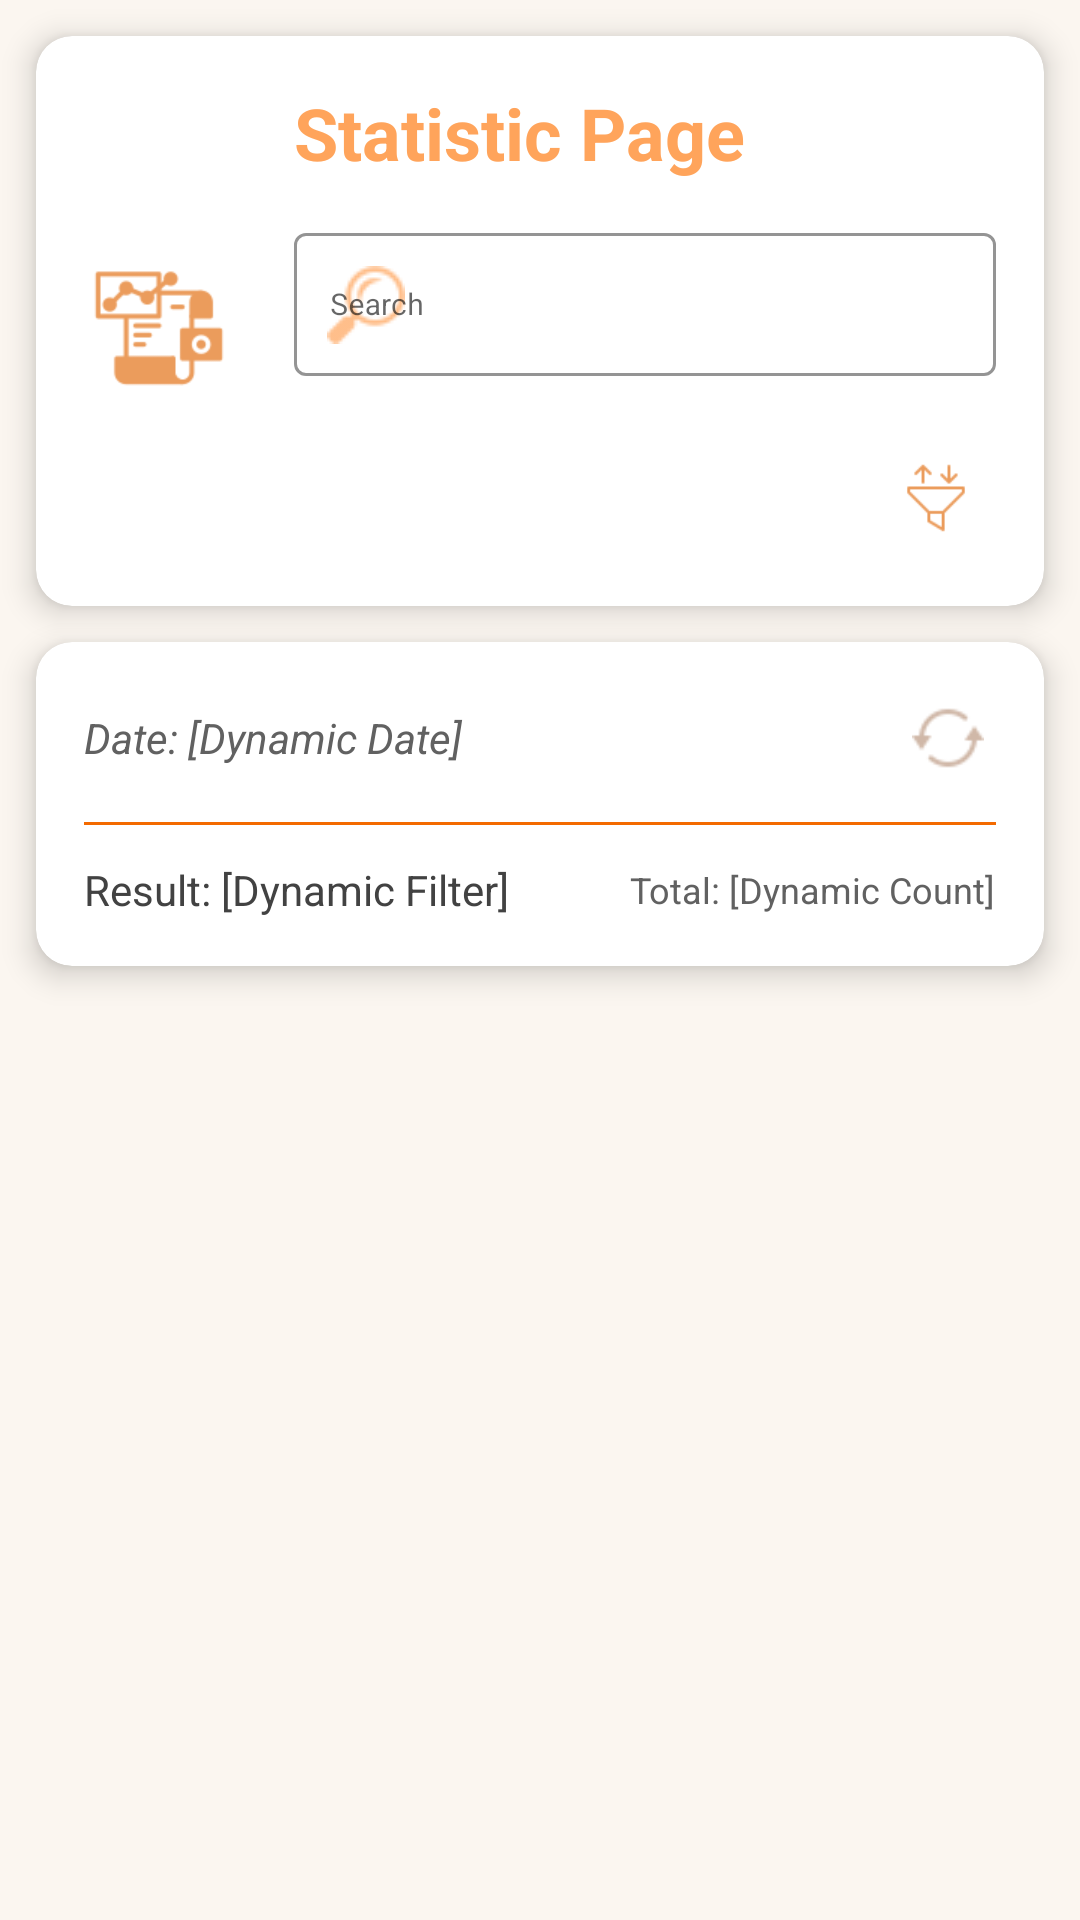

Named icons in this screenshot (1080×1920) and their centers, (x,y):
Filter: (936,498)
Refresh: (948,738)
